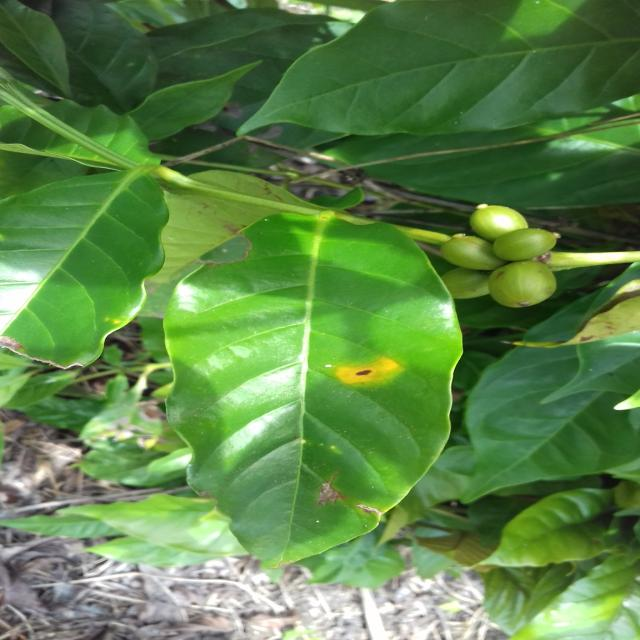Enfermedad-Roya: (161, 211, 461, 568)
